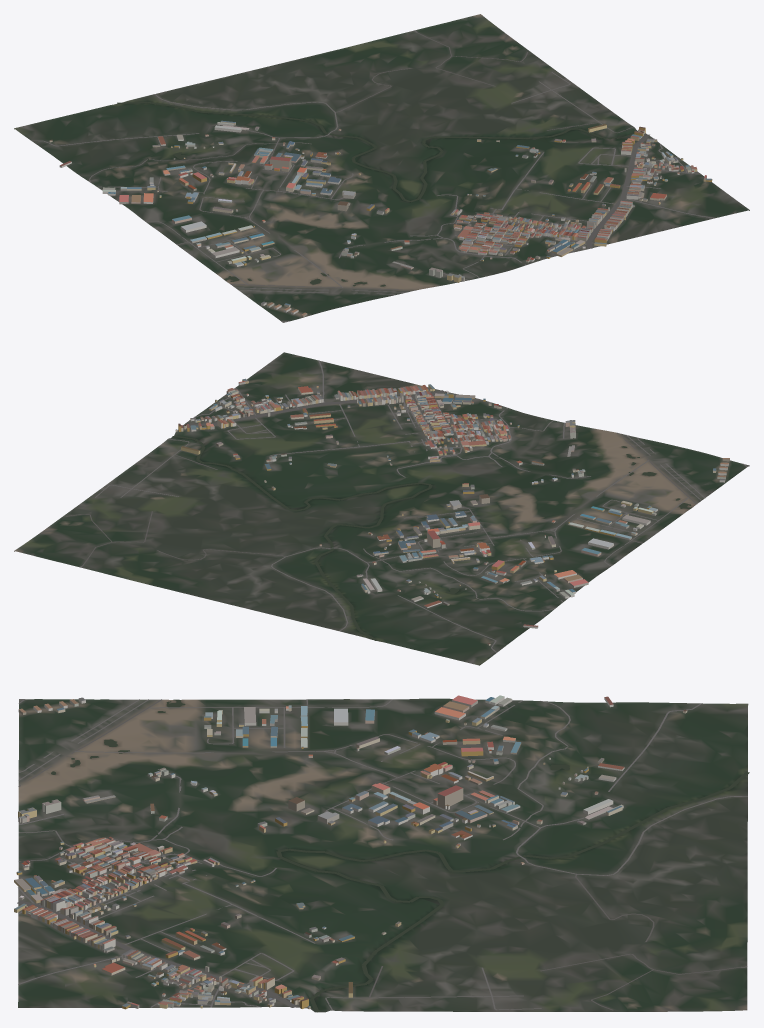
The picture shows the model from 3 angles, top to bottom: view 1: azimuth 30°, elevation 25°; view 2: azimuth 150°, elevation 25°; view 3: azimuth 270°, elevation 25°; orthographic projection. The views are drawn at different scales.
Visible parts, largest first — view 1: ground, buildings, roads, water; view 2: ground, buildings, roads, water; view 3: ground, buildings, roads, water.
Boxes of the visible parts, bbox=[...] form: ground: bbox=[14, 14, 749, 322]; buildings: bbox=[49, 120, 712, 317]; roads: bbox=[31, 30, 714, 322]; water: bbox=[117, 101, 637, 286]; ground: bbox=[14, 352, 749, 665]; buildings: bbox=[175, 378, 729, 645]; roads: bbox=[66, 360, 749, 652]; water: bbox=[172, 435, 691, 640]; ground: bbox=[18, 698, 748, 1012]; buildings: bbox=[14, 695, 687, 1009]; roads: bbox=[17, 699, 747, 1010]; water: bbox=[51, 699, 749, 1012].
Bounding box in the file's own units: 1422 × 39.7 × 1415.
